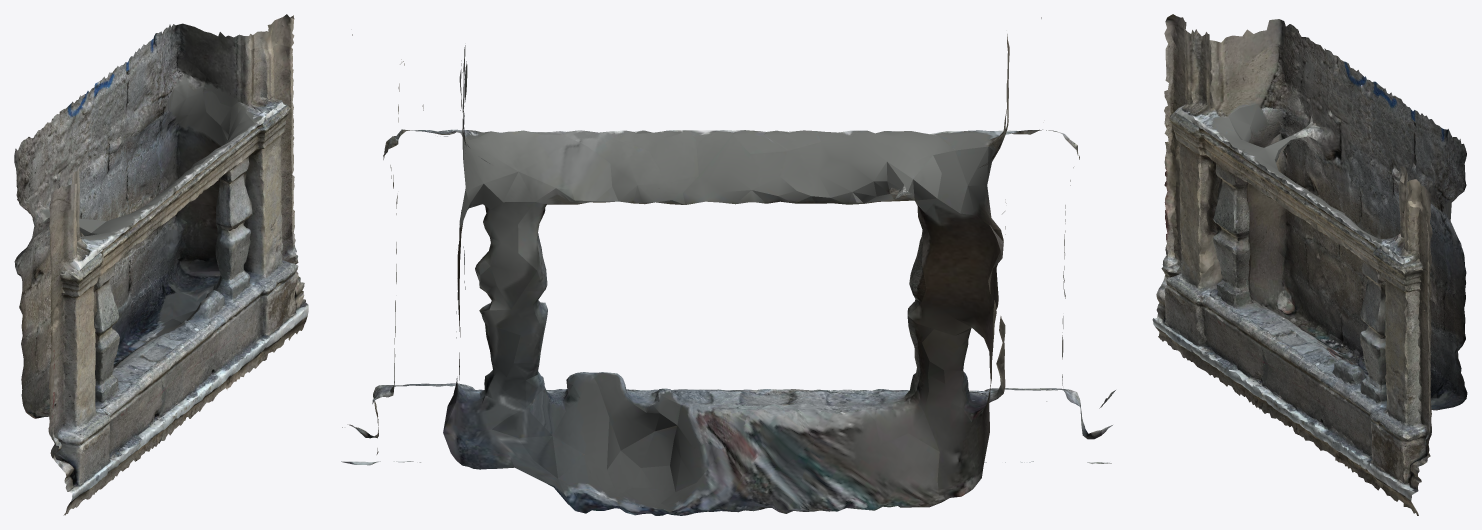
Rendered from frag3.glb.
The picture shows the model from 3 angles, left to right: view 1: azimuth 30°, elevation 25°; view 2: azimuth 150°, elevation 25°; view 3: azimuth 270°, elevation 25°; orthographic projection. The views are drawn at different scales.
Visible parts, largest first — view 1: 34842893b1613a8029f4483e5884e43a259e4bba/Modelo2; view 2: 34842893b1613a8029f4483e5884e43a259e4bba/Modelo2; view 3: 34842893b1613a8029f4483e5884e43a259e4bba/Modelo2.
Boxes of the visible parts, <box> form: 34842893b1613a8029f4483e5884e43a259e4bba/Modelo2: <box>14,14,308,515</box>; 34842893b1613a8029f4483e5884e43a259e4bba/Modelo2: <box>341,17,1115,515</box>; 34842893b1613a8029f4483e5884e43a259e4bba/Modelo2: <box>1152,14,1467,515</box>.
Size of the model in its own units: 1.39 by 1.13 by 0.9849.
Materials: 1 (1 with a texture image).
